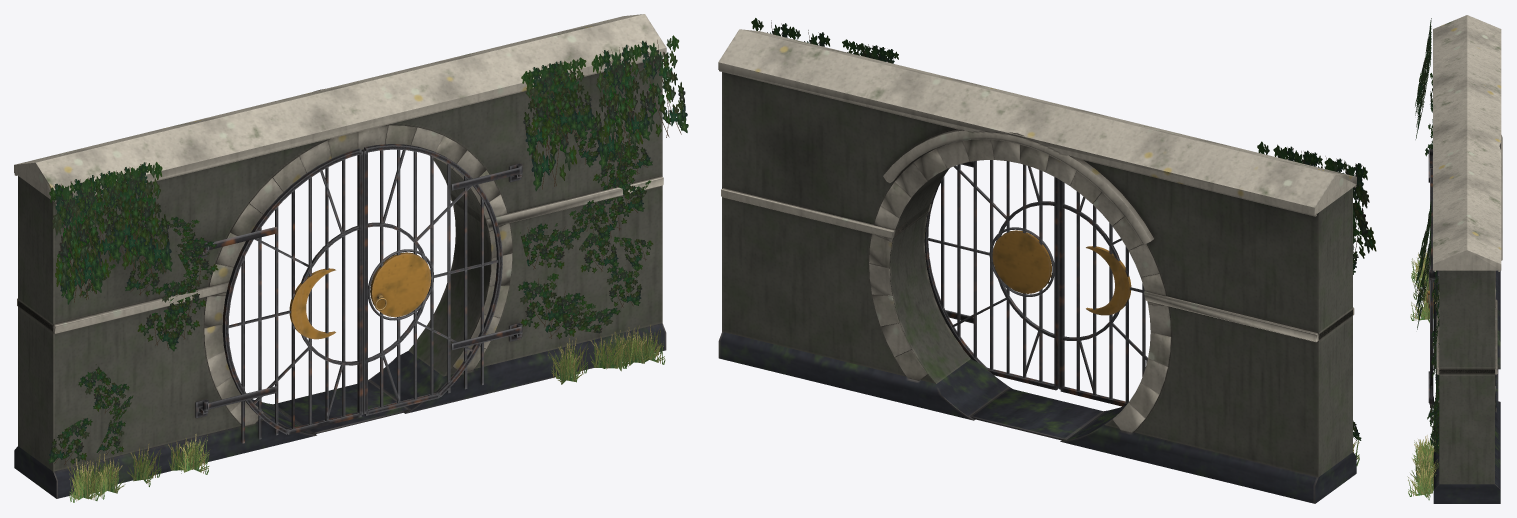
Rendered from GateMoon.fbx.
The picture shows the model from 3 angles, left to right: view 1: azimuth 30°, elevation 25°; view 2: azimuth 150°, elevation 25°; view 3: azimuth 270°, elevation 25°; orthographic projection. The views are drawn at different scales.
Parts seen in each view (by area): view 1: GateMoon_Main, GateMoon_Leaves, GateMoon_Leaf1, GateMoon_Leaf0; view 2: GateMoon_Main, GateMoon_Leaf1, GateMoon_Leaf0, GateMoon_Leaves; view 3: GateMoon_Main, GateMoon_Leaves, GateMoon_Leaf1, GateMoon_Leaf0.
Boxes of the visible parts, bbox=[...] form: GateMoon_Main: bbox=[14, 14, 666, 498]; GateMoon_Leaves: bbox=[48, 35, 688, 502]; GateMoon_Leaf1: bbox=[362, 144, 522, 415]; GateMoon_Leaf0: bbox=[202, 148, 363, 443]; GateMoon_Main: bbox=[718, 29, 1356, 503]; GateMoon_Leaf1: bbox=[924, 160, 1058, 390]; GateMoon_Leaf0: bbox=[1059, 179, 1147, 406]; GateMoon_Leaves: bbox=[751, 18, 1376, 465]; GateMoon_Main: bbox=[1430, 15, 1502, 503]; GateMoon_Leaves: bbox=[1407, 18, 1439, 500]; GateMoon_Leaf1: bbox=[1426, 168, 1433, 423]; GateMoon_Leaf0: bbox=[1428, 149, 1433, 308].
Bounding box in the file's own units: 1661 × 805 × 274.
